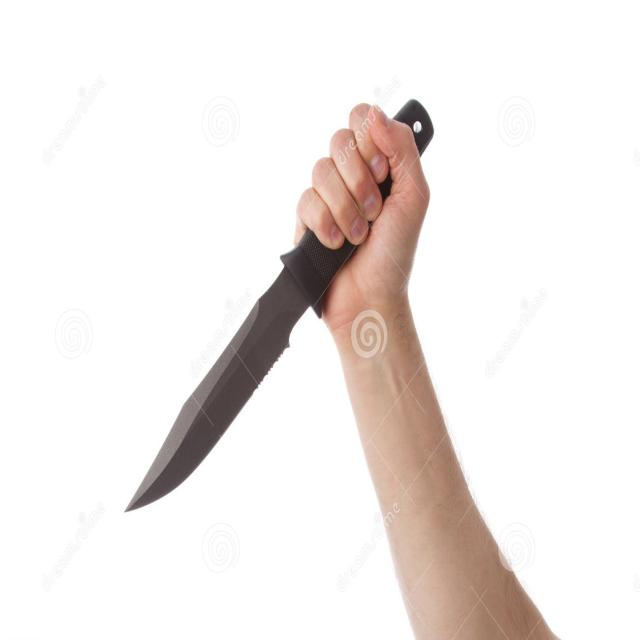knife: (123, 101, 438, 522)
